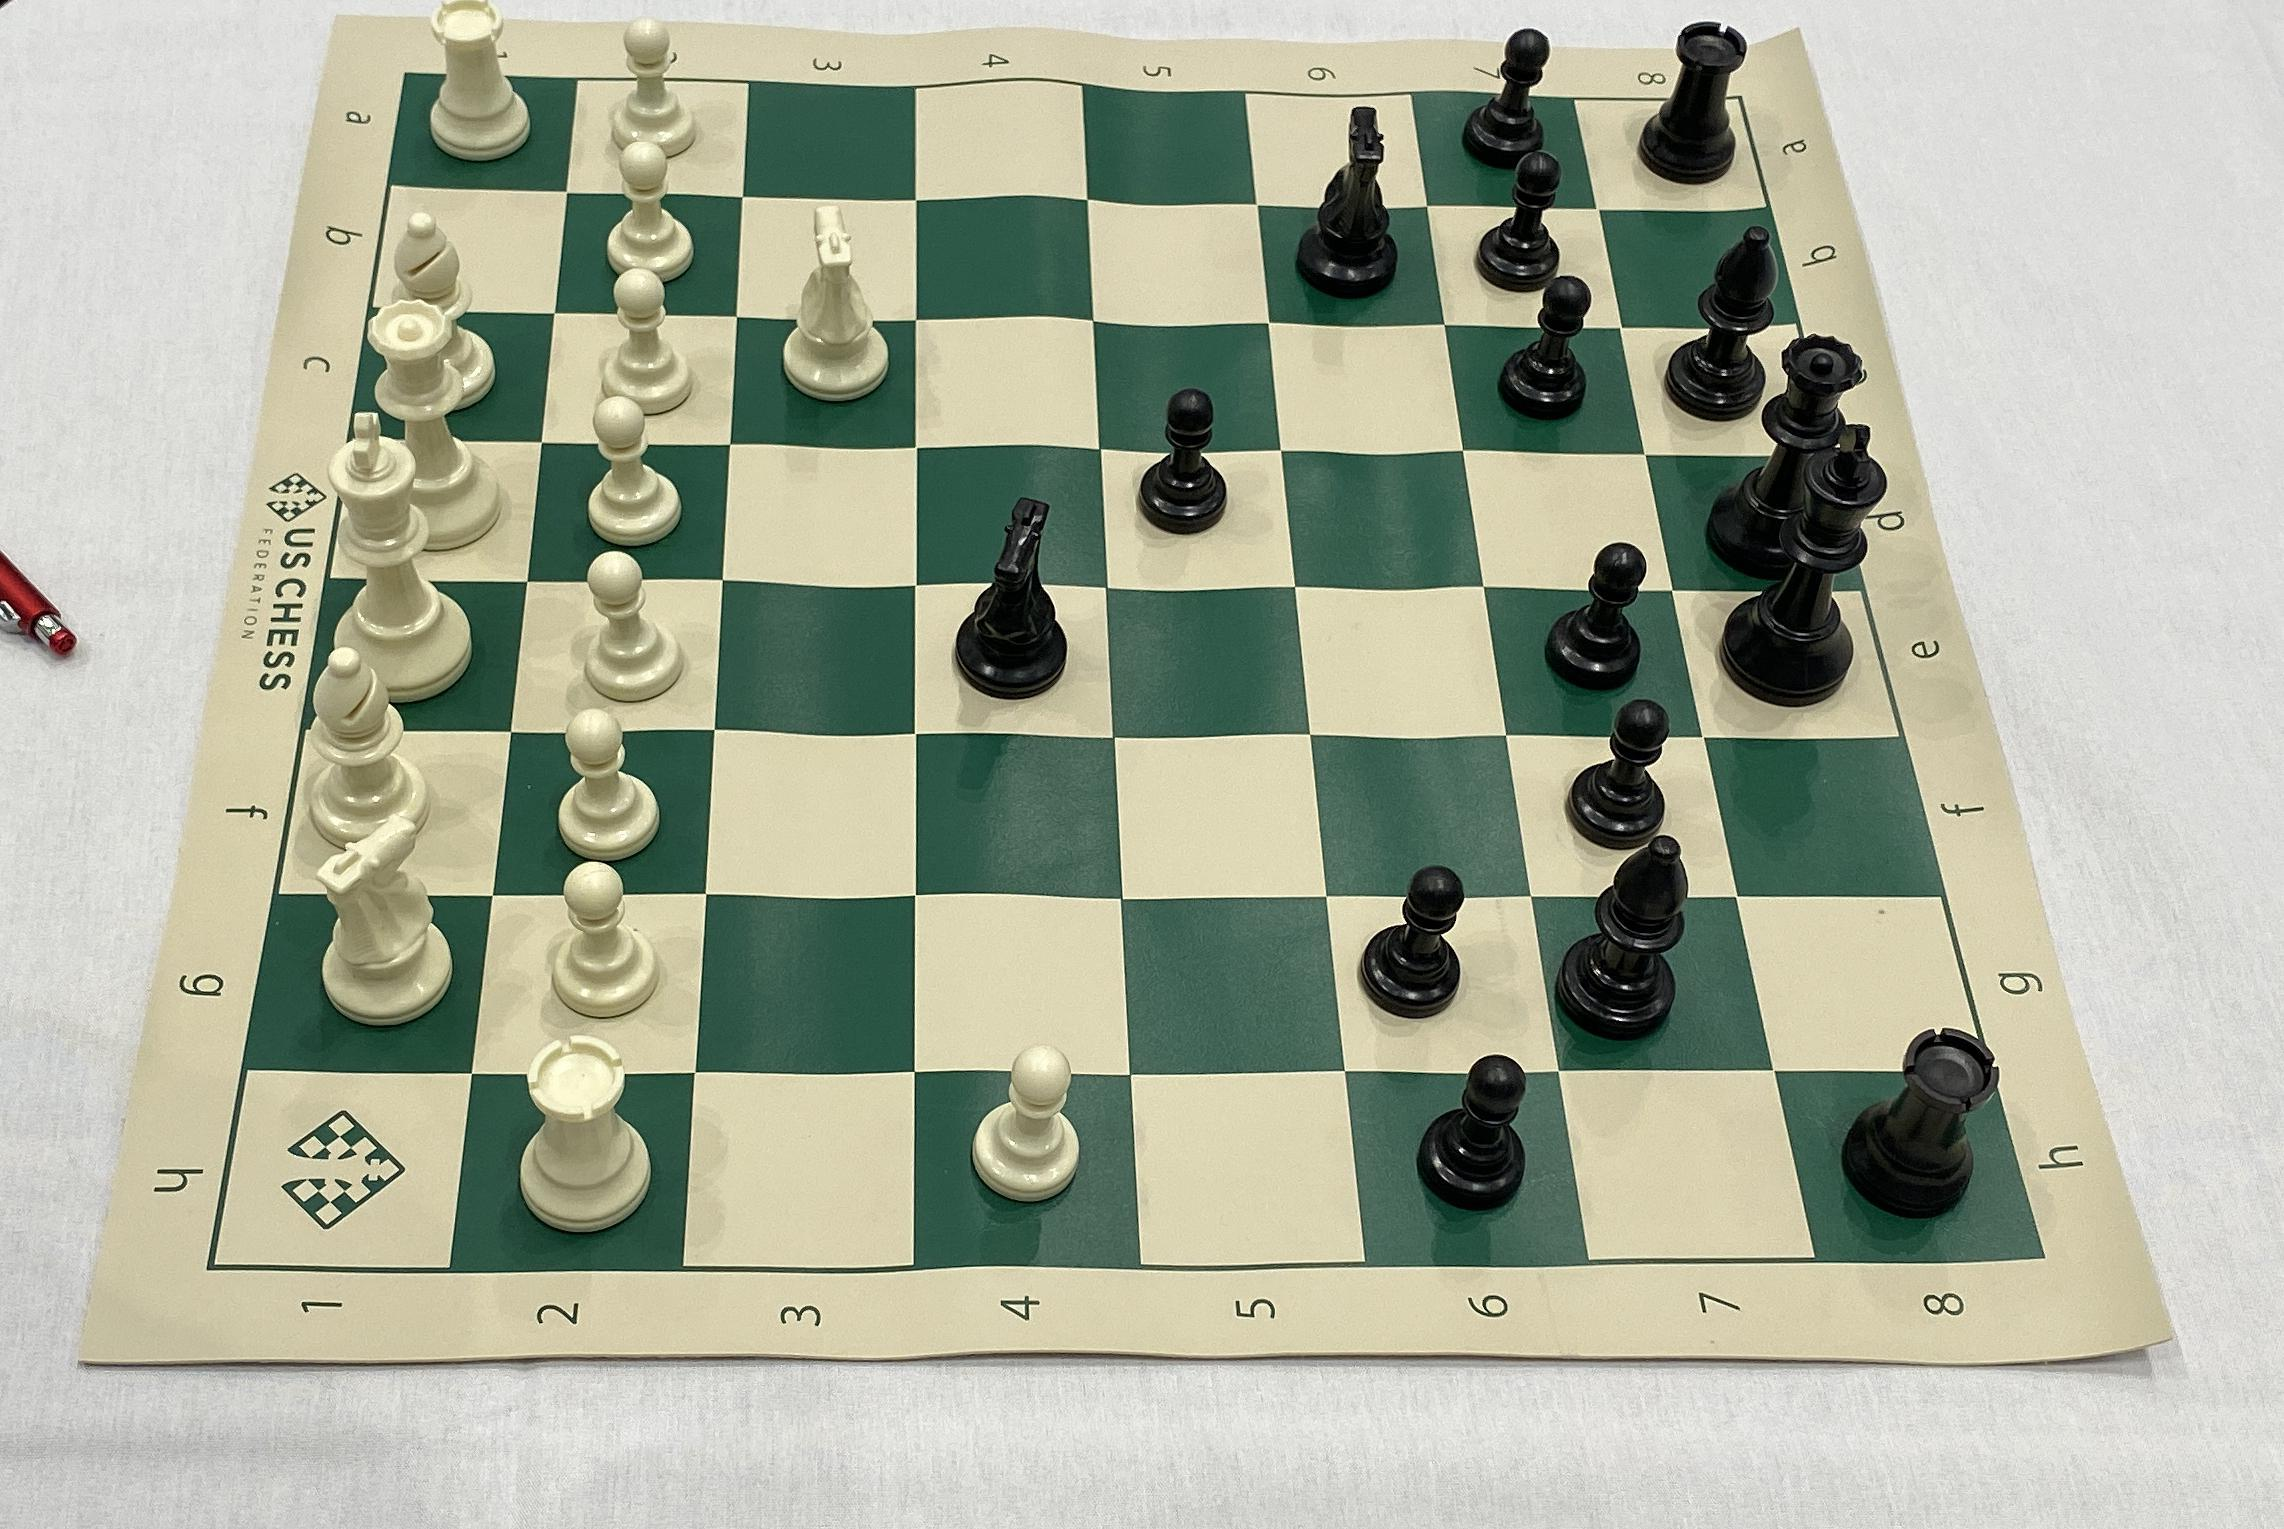black-bishop: (1551, 836, 1690, 1044), (1668, 218, 1776, 427)
black-king: (1718, 421, 1887, 712)
black-knight: (952, 486, 1078, 703), (1290, 102, 1406, 297)
black-pawn: (1354, 862, 1470, 1027), (1562, 701, 1684, 846), (1417, 1049, 1527, 1210), (1545, 532, 1644, 691), (1131, 382, 1232, 536), (1458, 19, 1556, 166), (1499, 275, 1591, 427), (1474, 150, 1564, 295)
black-queen: (1706, 328, 1875, 578)
black-rook: (1832, 1020, 2003, 1224), (1639, 19, 1740, 186)
white-bishop: (304, 648, 430, 850), (391, 208, 500, 411)
white-king: (322, 410, 469, 695)
white-knight: (302, 814, 455, 1029), (776, 200, 887, 416)
white-pawn: (965, 1038, 1083, 1208), (546, 858, 658, 1017), (553, 701, 658, 857), (577, 549, 682, 698), (582, 394, 682, 544), (607, 142, 698, 276), (600, 271, 687, 411), (611, 17, 693, 157)
white-queen: (362, 294, 500, 549)
white-rook: (513, 1029, 650, 1235), (426, 0, 525, 160)
